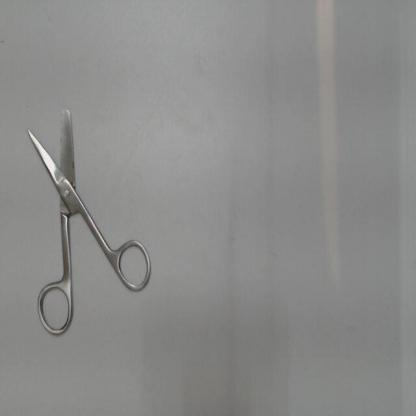Dressing Scissors: (23, 100, 159, 345)
